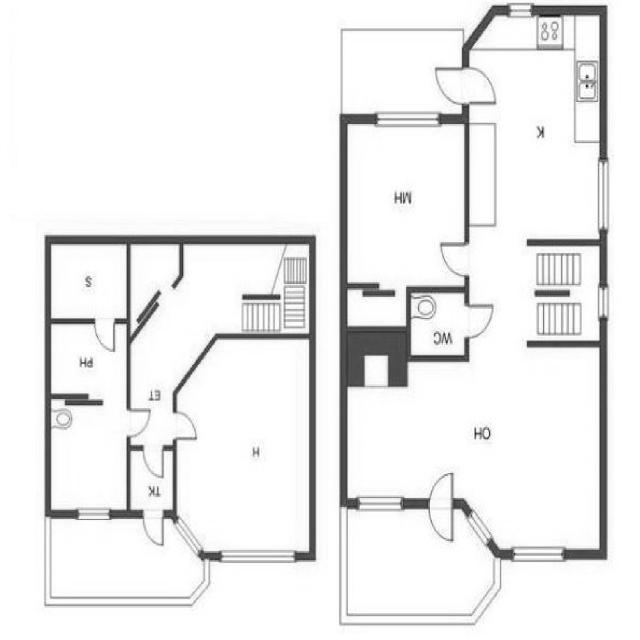door: (130, 446, 177, 511), (429, 63, 492, 106), (426, 468, 458, 548), (434, 236, 474, 281), (461, 297, 497, 341), (169, 405, 204, 444), (140, 507, 168, 552), (92, 316, 119, 356), (124, 404, 154, 440), (140, 444, 167, 479)
window: (211, 539, 300, 572), (368, 101, 444, 131), (503, 538, 570, 570), (346, 488, 412, 519), (595, 153, 614, 235), (72, 501, 113, 524), (596, 280, 611, 322), (506, 1, 536, 19)
zone: (344, 384, 604, 554), (464, 10, 604, 239), (176, 335, 314, 553), (345, 116, 466, 291), (155, 239, 315, 341), (46, 397, 131, 513), (48, 320, 129, 401), (48, 245, 130, 319), (408, 291, 468, 356), (130, 447, 176, 512), (84, 312, 122, 367)
